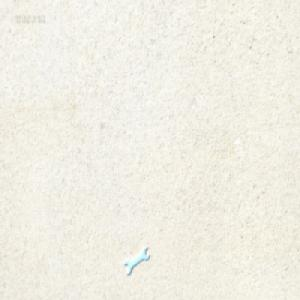Wrench: (124, 245, 148, 274)
